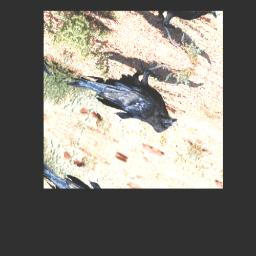Crow: (62, 22, 195, 144)
